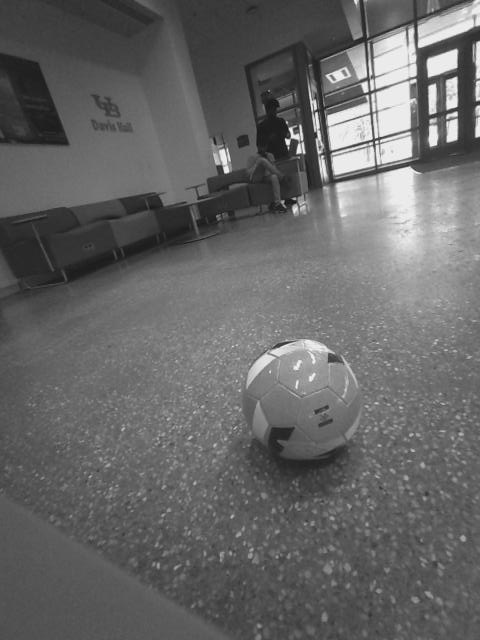ball: (237, 332, 375, 471)
